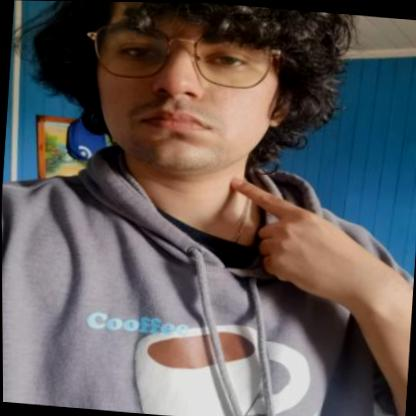Q: (226, 174, 384, 298)
